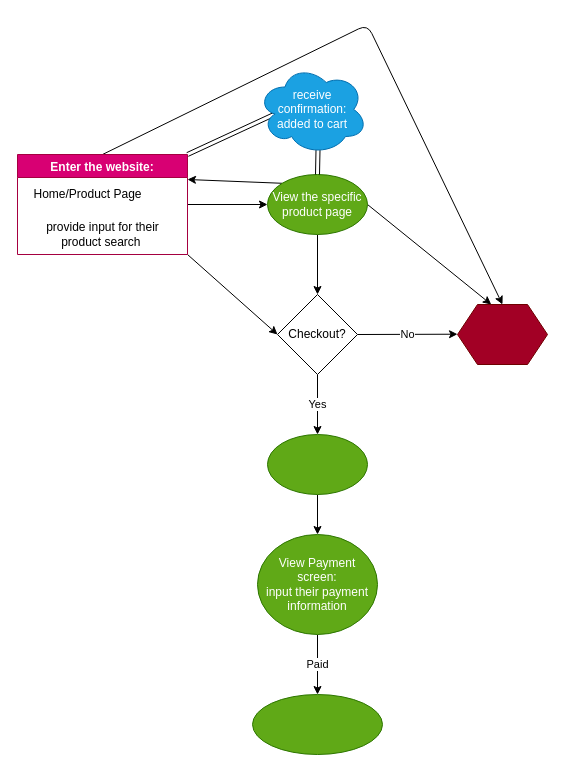
The diagram is 565 pixels wide and 772 high, and some of its shapes have lost their labels. The shapes that lost their labels are listed below. From the top down, each one's centre as x and y in pixels, then its label:
pixel 502 334: Leave the website
pixel 317 464: View Cart screen
pixel 317 724: Order confirmation screen: receive an email
